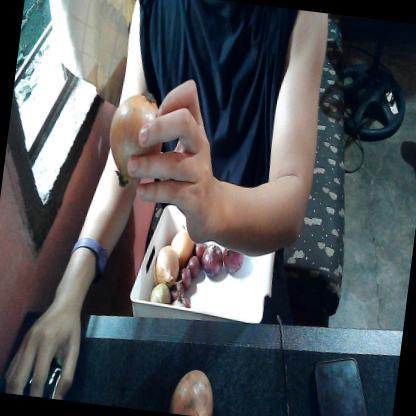onion: (100, 76, 174, 193)
